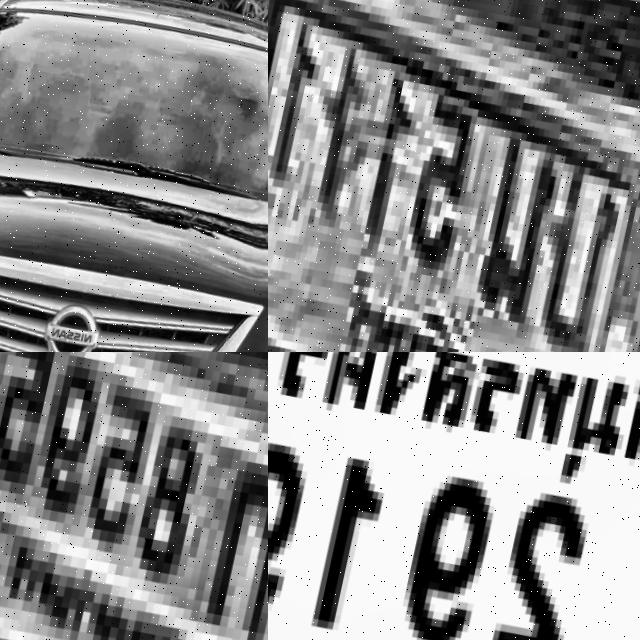license-plate: (268, 0, 640, 352), (268, 352, 640, 640), (0, 352, 268, 640)
